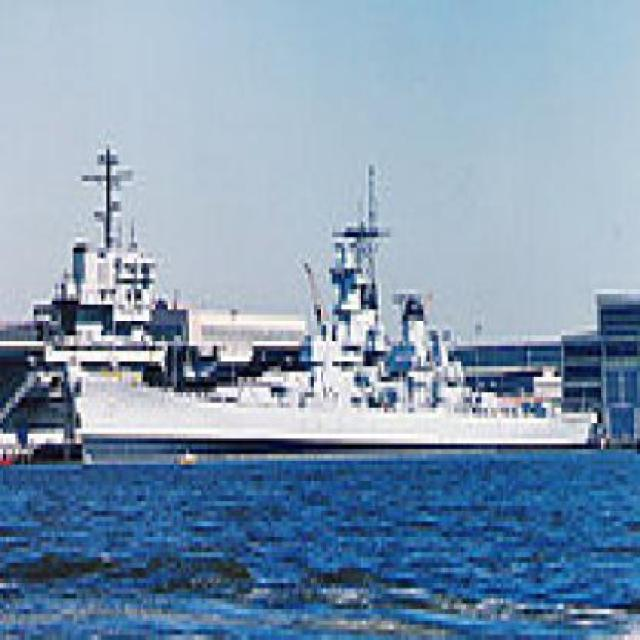warship2: (62, 161, 617, 476)
